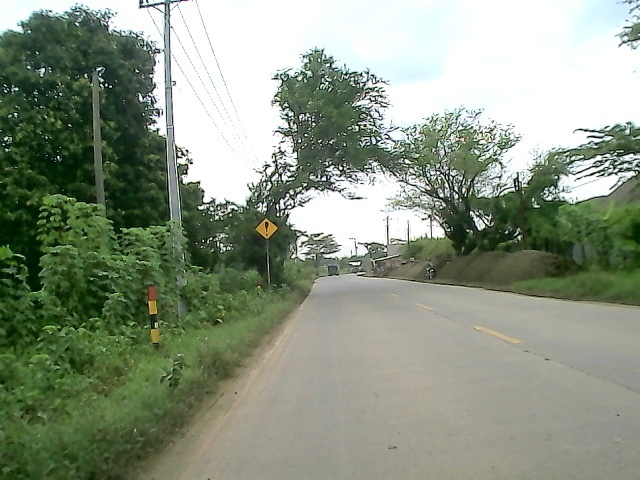Hati-hati: (251, 216, 280, 242)
